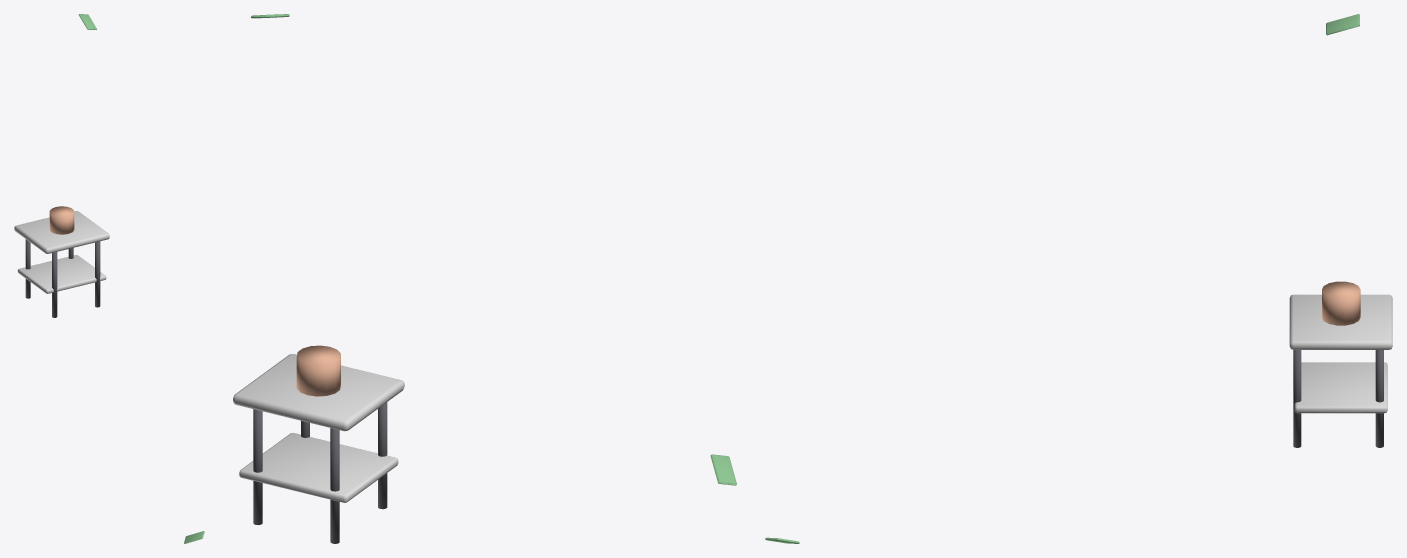
File: Modular_Nightstand.fbx
3 views of the same model, side by side, from view 1: azimuth 30°, elevation 25°; view 2: azimuth 150°, elevation 25°; view 3: azimuth 270°, elevation 25° (orthographic). The views are drawn at different scales.
Visible parts, largest first — view 1: Modular_Nightstand; view 2: Modular_Nightstand; view 3: Modular_Nightstand.
Boxes of the visible parts, <box> form: Modular_Nightstand: <box>14,14,204,543</box>; Modular_Nightstand: <box>233,14,736,543</box>; Modular_Nightstand: <box>765,14,1392,543</box>.
Bounding box in the file's own units: 61.15 × 252 × 243.
